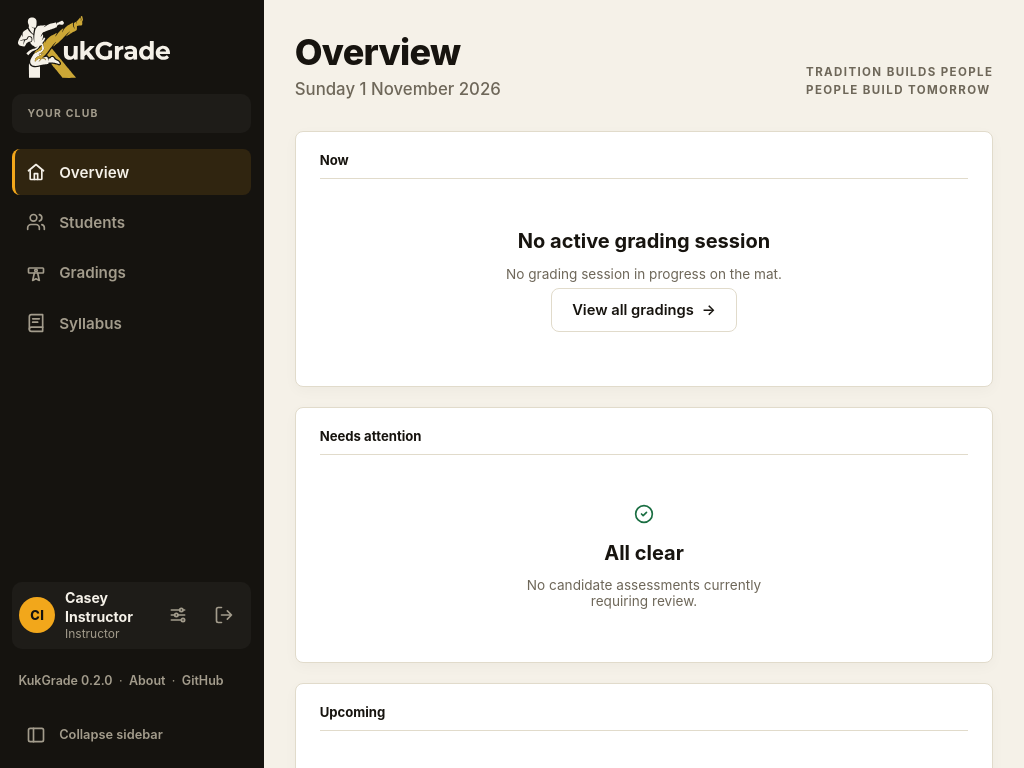
Test: Navigation rail and role-gated routes › navigates between sections when navigation links are clicked
The image size is (1024, 768).
Expected: the heading "Overview" is shown, [295,30,460,74]
Click the link "Students" at (75, 222), box [26,212,125,232]
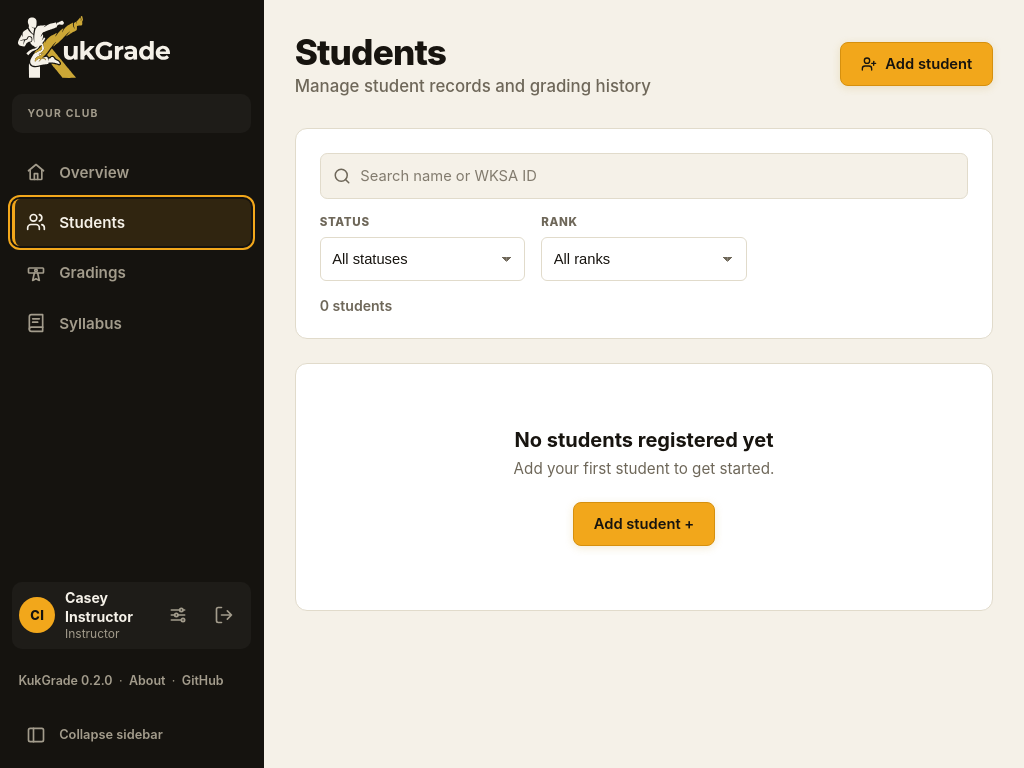
Now the heading "Students" is shown, box [295,31,446,73]
Click the link "Gradings" at (76, 273), box [26,263,126,283]
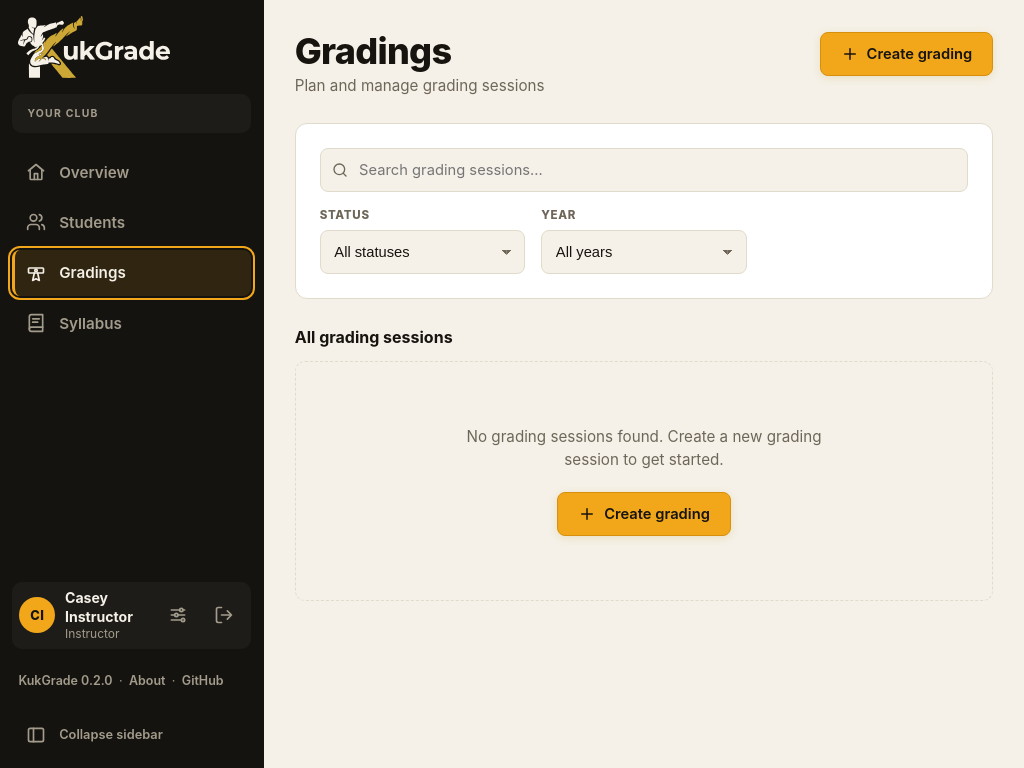
Now the heading "Gradings" is shown, box [295,29,451,73]
Click the link "Syllabus" at (74, 323), box [26,313,122,333]
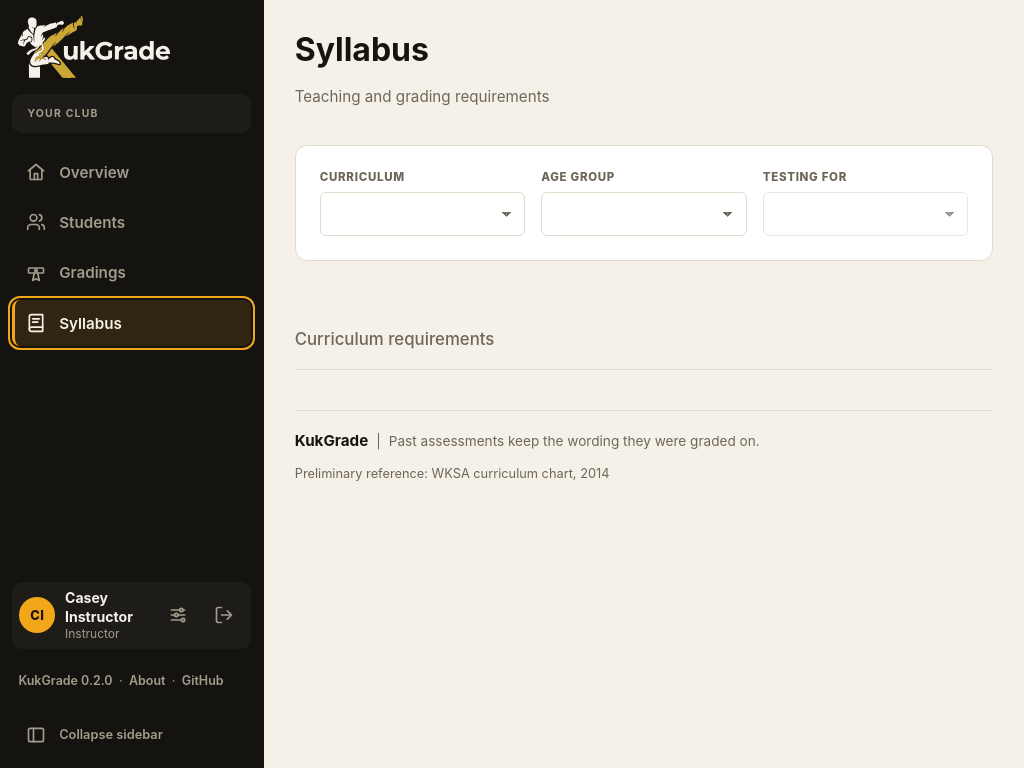
Now the heading "Syllabus" is shown, box [295,30,429,69]
Click the link "Overview" at (77, 172), box [26,162,129,182]
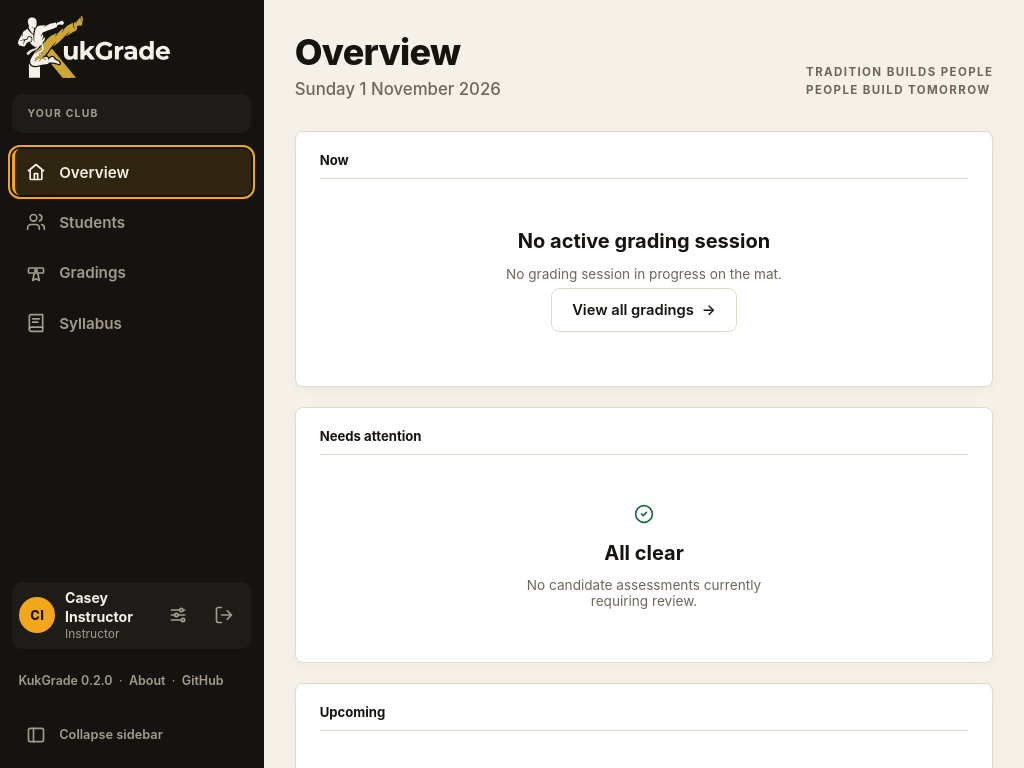
Now the heading "Overview" is shown, box [295,30,460,74]
